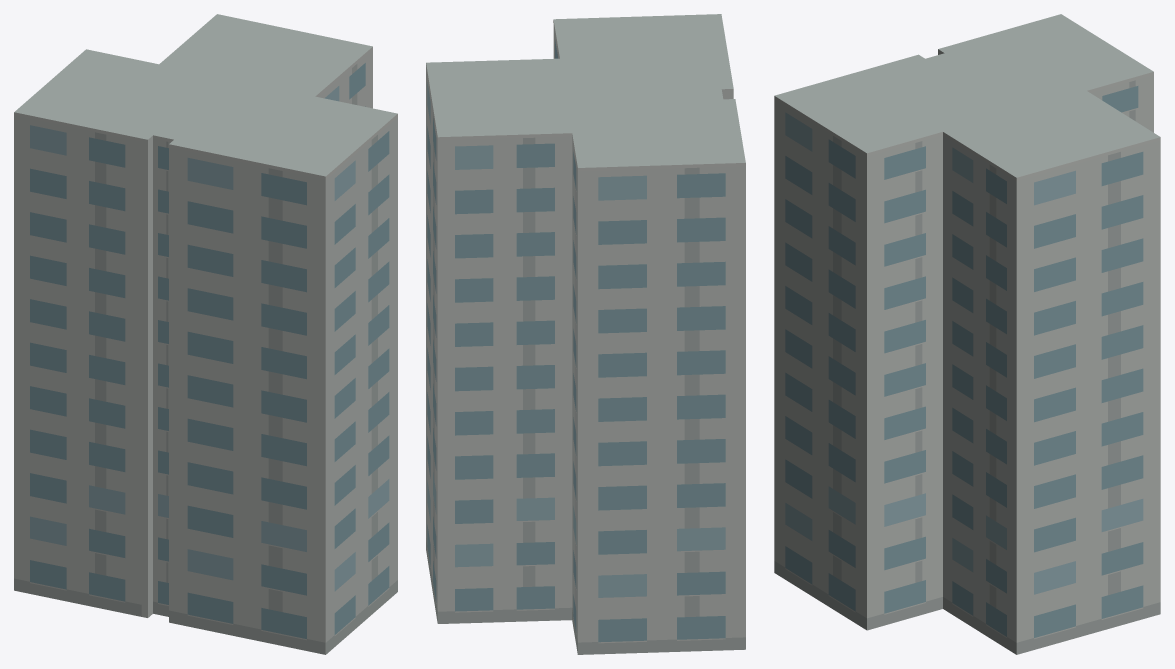
File: survey-upis-32846826.glb
The picture shows the model from 3 angles, left to right: view 1: azimuth 30°, elevation 25°; view 2: azimuth 150°, elevation 25°; view 3: azimuth 270°, elevation 25°; orthographic projection. The views are drawn at different scales.
Parts seen in each view (by area): view 1: survey-upis-32846826.tmp; view 2: survey-upis-32846826.tmp; view 3: survey-upis-32846826.tmp.
Part boxes in pixels (x1,y1,x2,y2): survey-upis-32846826.tmp: (14, 14, 397, 654); survey-upis-32846826.tmp: (426, 14, 745, 654); survey-upis-32846826.tmp: (774, 14, 1160, 654).
Bounding box in the file's own units: 25.19 × 34.2 × 25.11.
